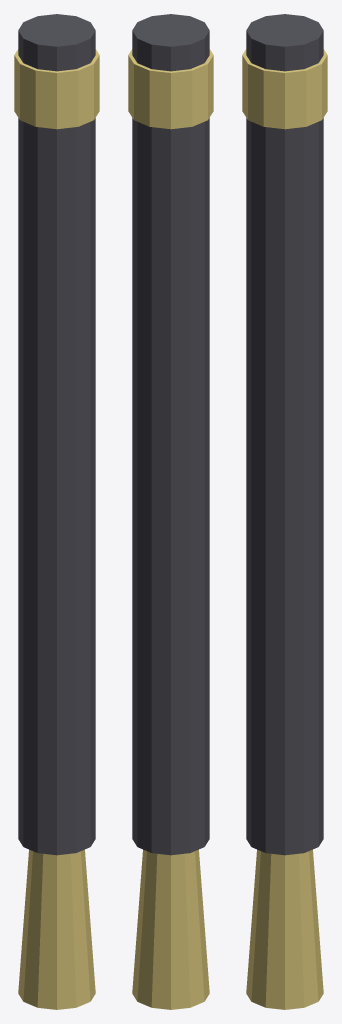
Rendered from pen.glb.
3 renders of one model, left to right at view 1: azimuth 30°, elevation 25°; view 2: azimuth 150°, elevation 25°; view 3: azimuth 330°, elevation 25°, orthographic.
Parts seen in each view (by area): view 1: pen; view 2: pen; view 3: pen.
Part boxes in pixels (x1,y1,x2,y2): pen: (14,14,99,1009); pen: (128,14,213,1009); pen: (242,14,327,1009).
Bounding box in the file's own units: 0.011 × 0.137 × 0.011.
